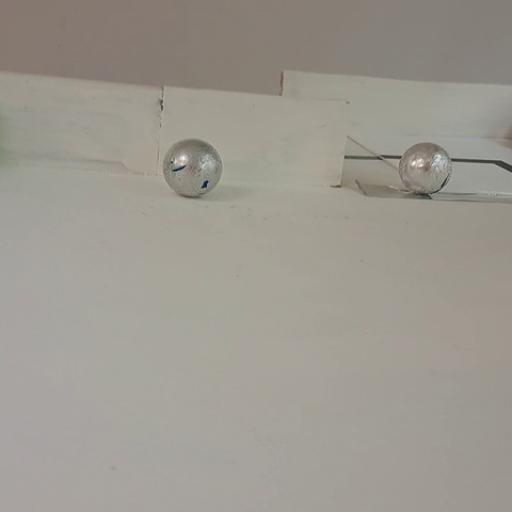alive: (162, 137, 222, 198), (397, 141, 453, 195)
